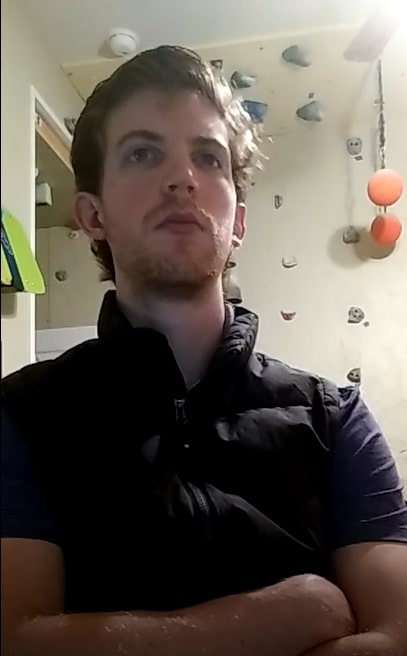Not Sleeping: (115, 132, 233, 182)
